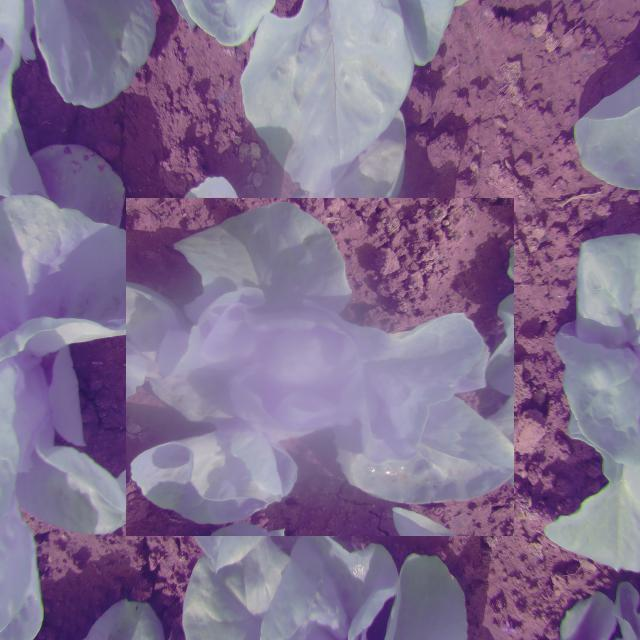vege: (138, 185, 501, 548)
